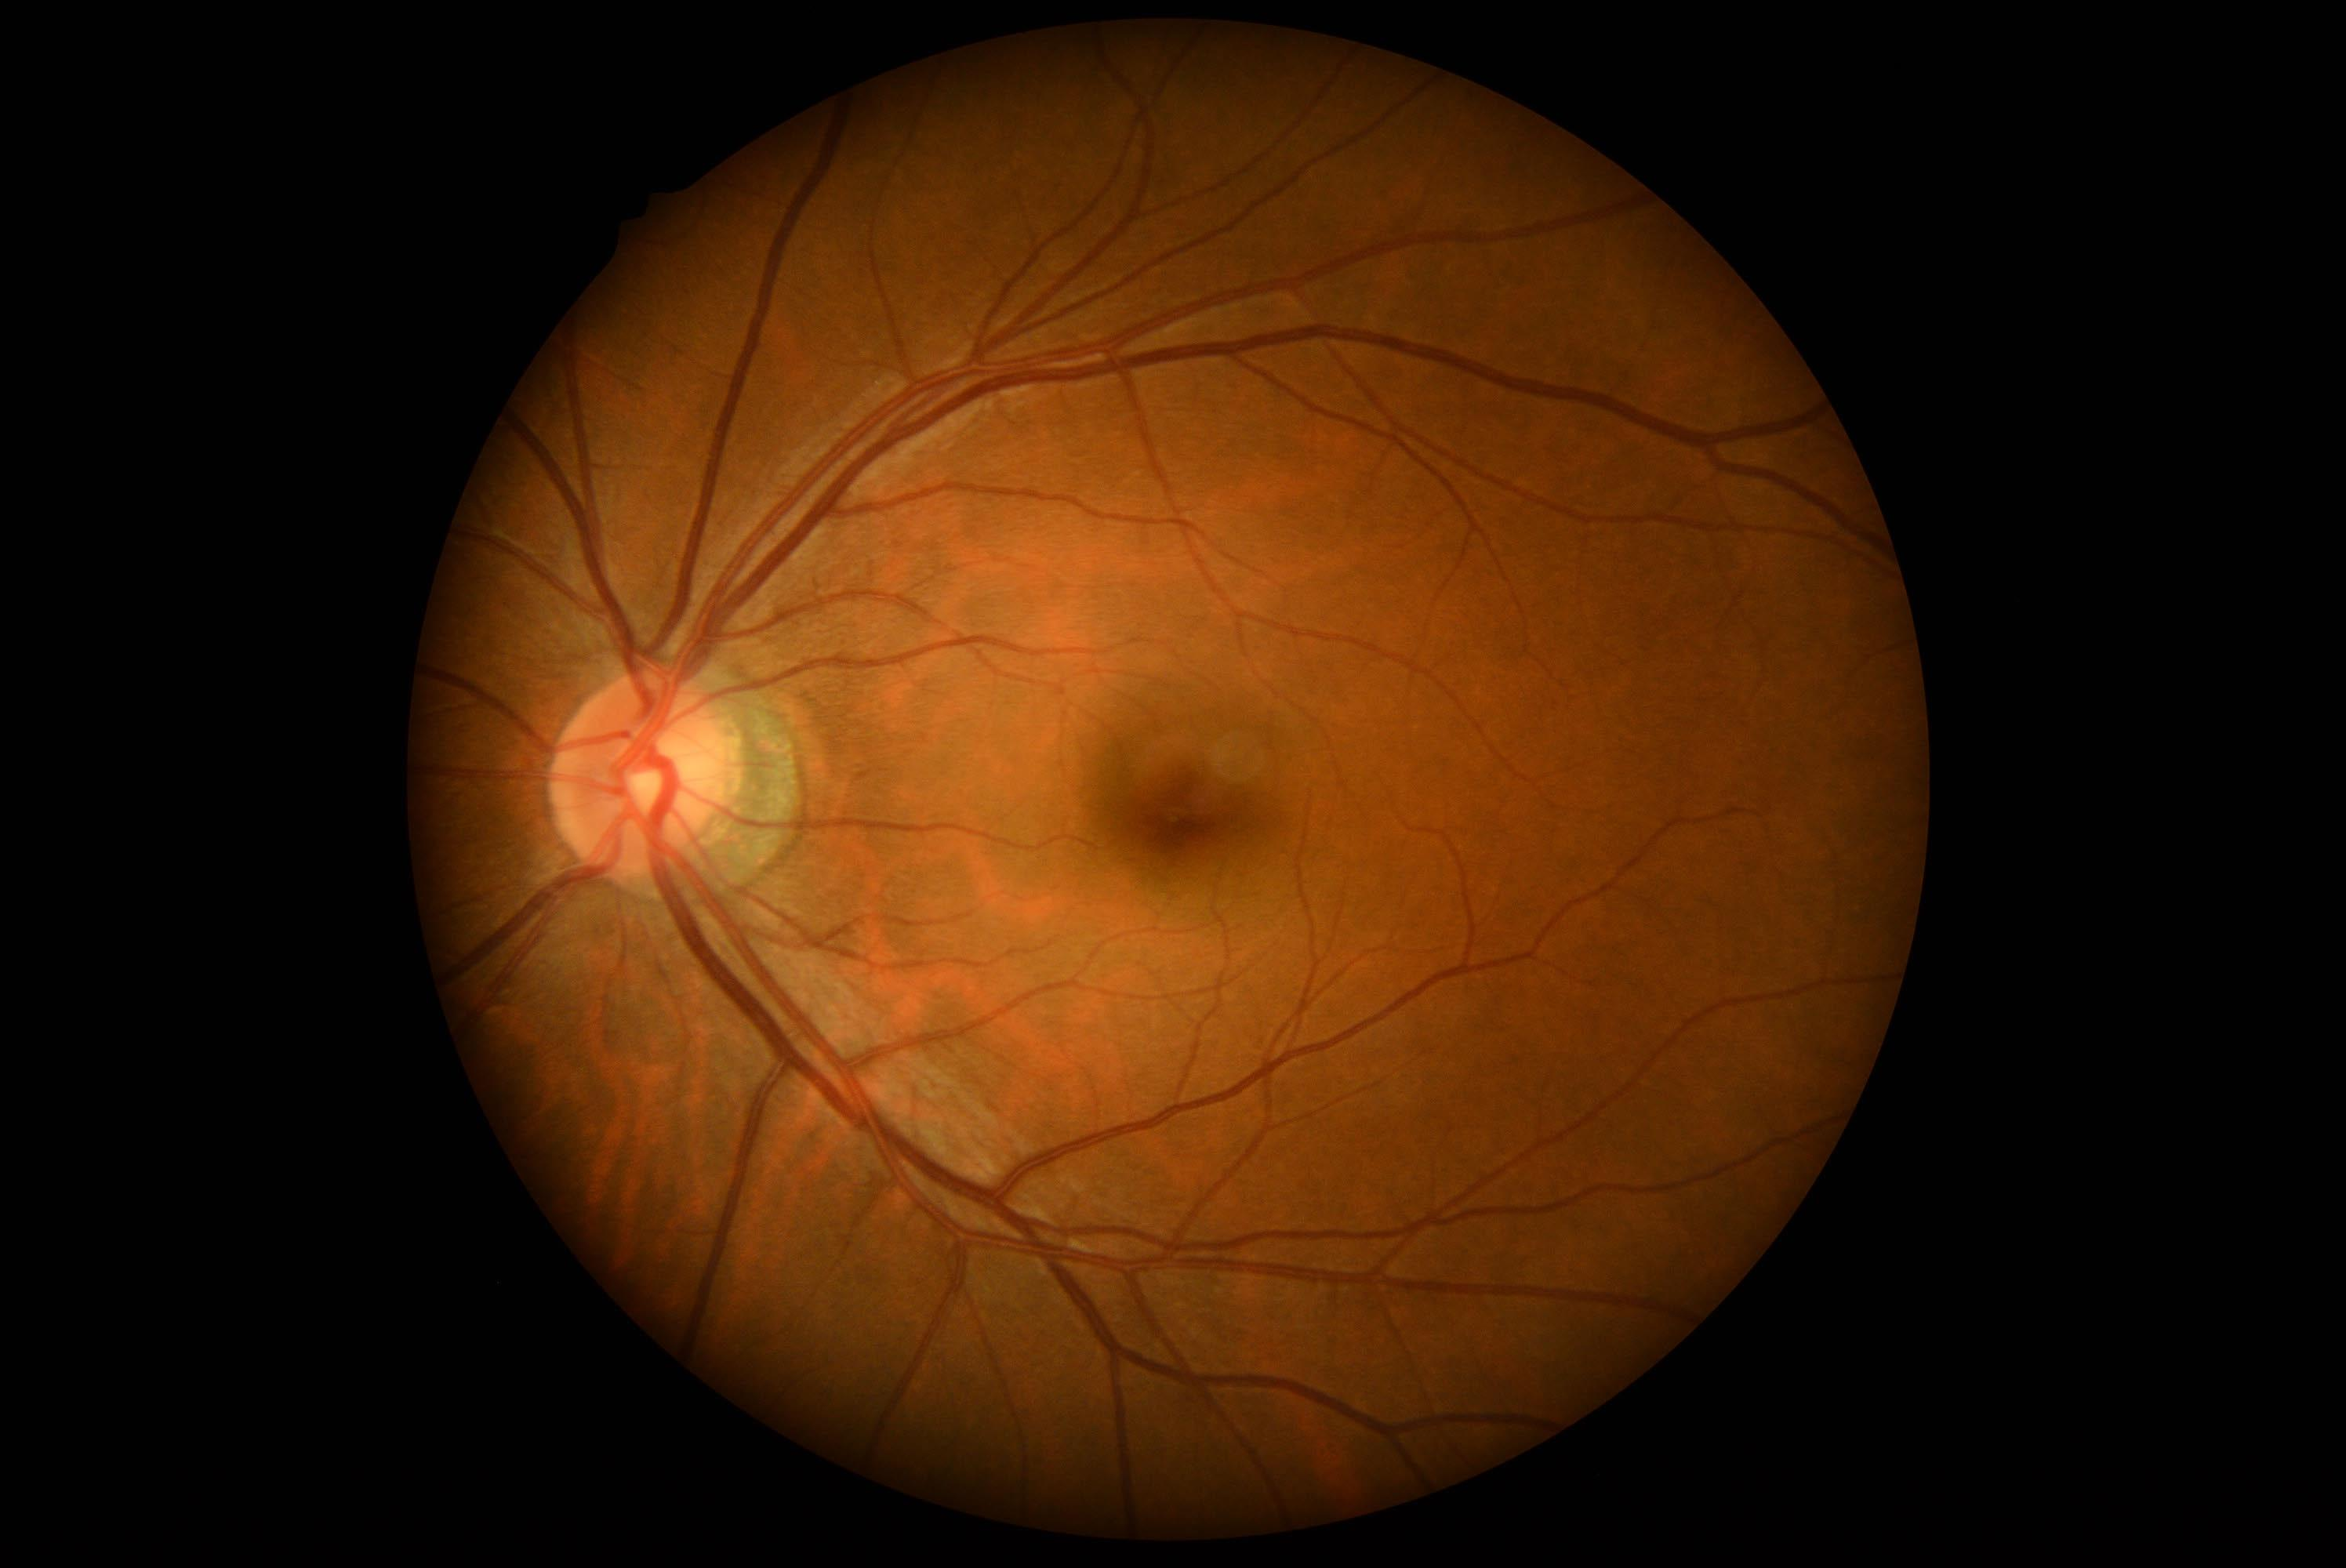Fovea: (1113, 742, 1256, 886)
